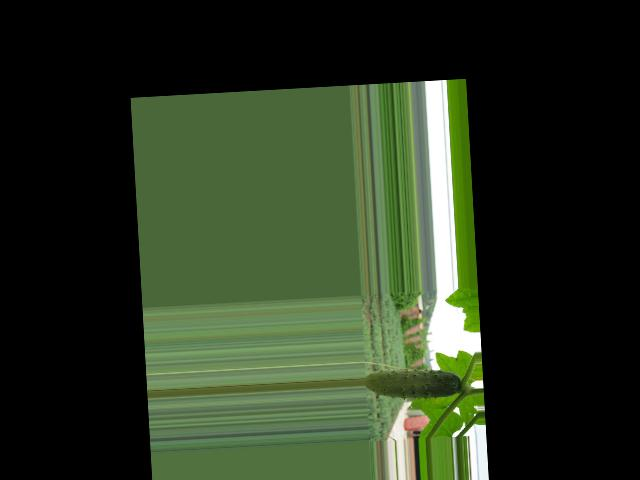cucumber: (364, 365, 461, 401)
